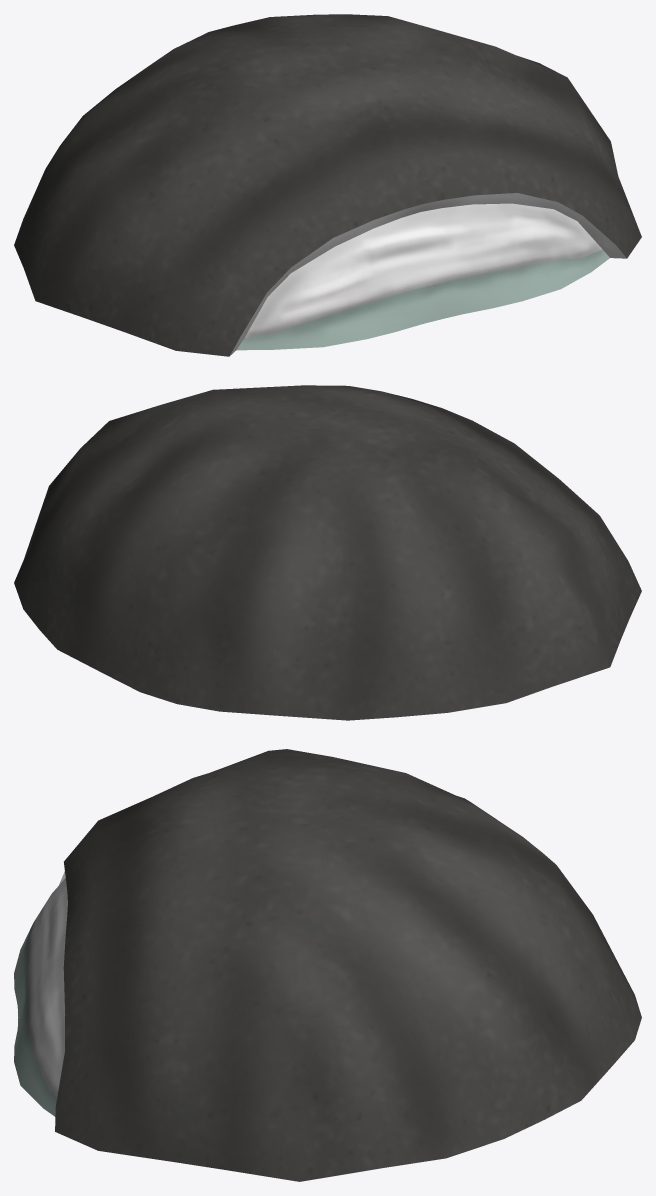
The model's file is cup_of_head.FBX.
The picture shows the model from 3 angles, top to bottom: view 1: azimuth 30°, elevation 25°; view 2: azimuth 150°, elevation 25°; view 3: azimuth 270°, elevation 25°; orthographic projection. The views are drawn at different scales.
Visible parts, largest first — view 1: cup_of_head; view 2: cup_of_head; view 3: cup_of_head.
Part boxes in pixels (x1=…): cup_of_head: x1=14, y1=14, x2=641, y2=356; cup_of_head: x1=14, y1=385, x2=641, y2=720; cup_of_head: x1=14, y1=749, x2=641, y2=1181.
Size of the model in its own units: 0.5084 by 0.4105 by 0.1519.
1 material, 1 textured.
